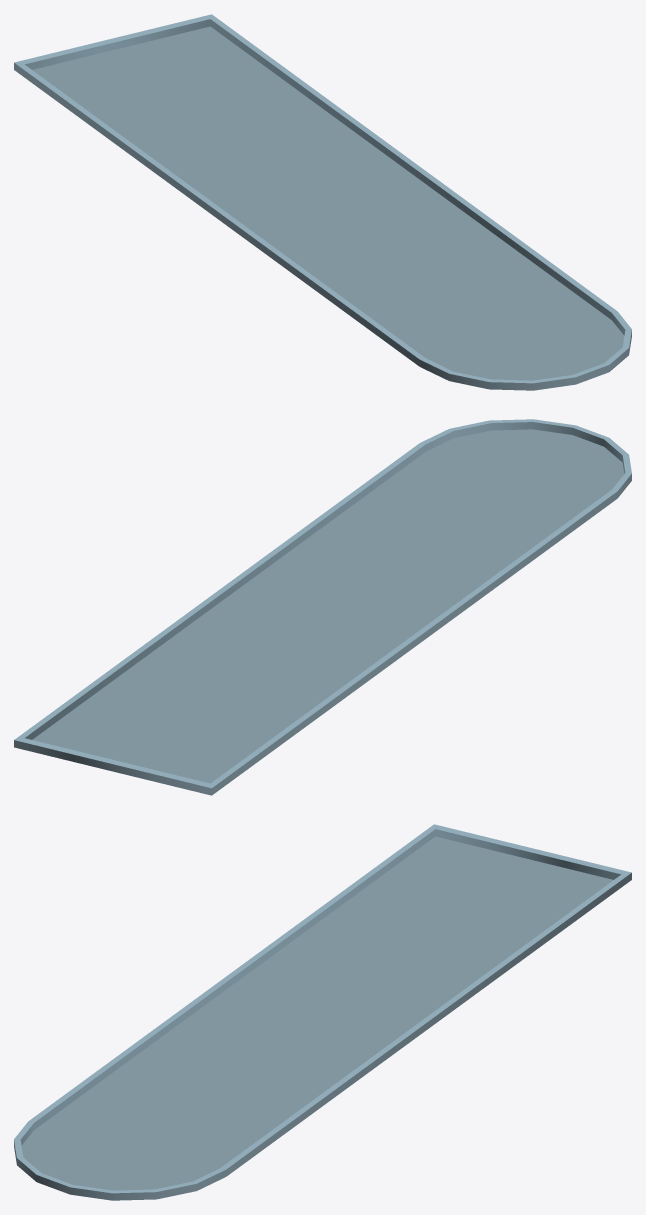
Rendered from Main_1006_obj_06.fbx.
3 views of the same model, one above another, from view 1: azimuth 30°, elevation 25°; view 2: azimuth 150°, elevation 25°; view 3: azimuth 330°, elevation 25° (orthographic).
Parts seen in each view (by area): view 1: Circle.002; view 2: Circle.002; view 3: Circle.002.
Boxes of the visible parts, x1,y1,x2,y2 form: Circle.002: [14, 14, 631, 390]; Circle.002: [14, 419, 631, 795]; Circle.002: [14, 824, 631, 1200].
Size of the model in its own units: 164 by 5.84 by 667.
